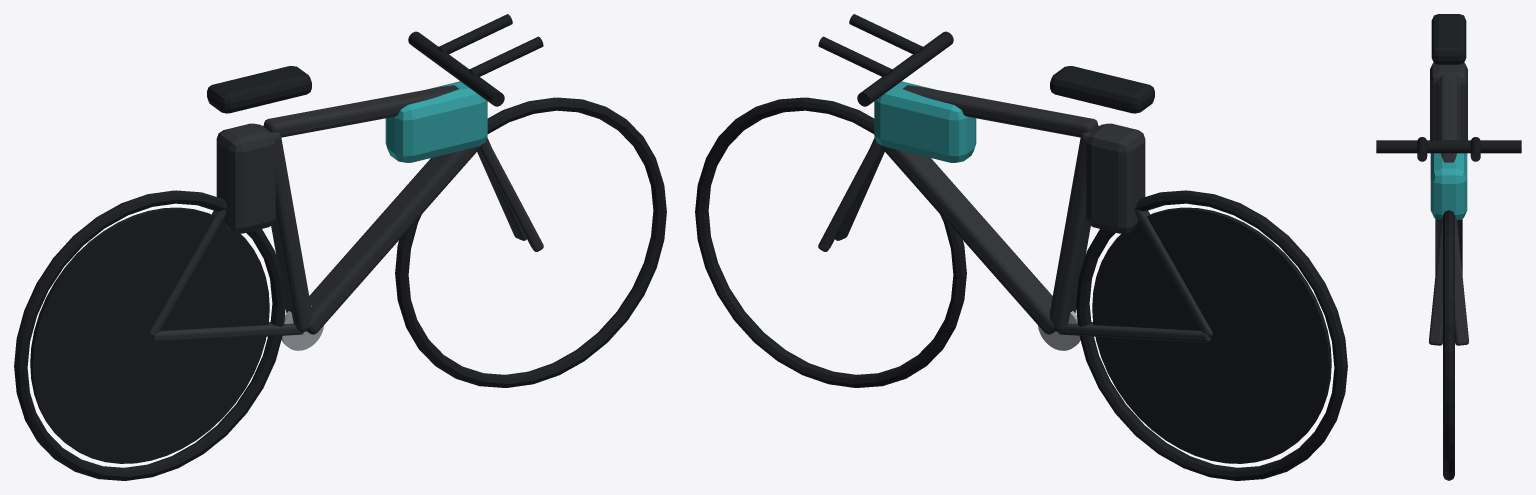
Rendered from bmc-speedmachine-01-size-m.glb.
3 views of the same model, side by side, from view 1: azimuth 30°, elevation 25°; view 2: azimuth 150°, elevation 25°; view 3: azimuth 270°, elevation 25° (orthographic). The views are drawn at different scales.
Visible parts, largest first — view 1: bmc-speedmachine-01-size-m_REAR_DISC, bmc-speedmachine-01-size-m, bmc-speedmachine-01-size-m_REAR_WHEEL, bmc-speedmachine-01-size-m_FRONT_WHEEL, bmc-speedmachine-01-size-m_DOWN_TUBE, bmc-speedmachine-01-size-m_SEAT_TUBE, bmc-speedmachine-01-size-m_TOP_TUBE, bmc-speedmachine-01-size-m_SADDLE, bmc-speedmachine-01-size-m_CHAIN_STAY, bmc-speedmachine-01-size-m_AERO_BASE, bmc-speedmachine-01-size-m_FORK_L, bmc-speedmachine-01-size-m_SEAT_STAY (+3 smaller); view 2: bmc-speedmachine-01-size-m_REAR_DISC, bmc-speedmachine-01-size-m, bmc-speedmachine-01-size-m_REAR_WHEEL, bmc-speedmachine-01-size-m_FRONT_WHEEL, bmc-speedmachine-01-size-m_DOWN_TUBE, bmc-speedmachine-01-size-m_SEAT_TUBE, bmc-speedmachine-01-size-m_TOP_TUBE, bmc-speedmachine-01-size-m_SADDLE, bmc-speedmachine-01-size-m_CHAIN_STAY, bmc-speedmachine-01-size-m_AERO_BASE, bmc-speedmachine-01-size-m_FORK_R, bmc-speedmachine-01-size-m_SEAT_STAY (+3 smaller); view 3: bmc-speedmachine-01-size-m, bmc-speedmachine-01-size-m_FRONT_WHEEL, bmc-speedmachine-01-size-m_AERO_BASE, bmc-speedmachine-01-size-m_SADDLE, bmc-speedmachine-01-size-m_TOP_TUBE, bmc-speedmachine-01-size-m_FORK_L, bmc-speedmachine-01-size-m_FORK_R, bmc-speedmachine-01-size-m_SEAT_TUBE, bmc-speedmachine-01-size-m_DOWN_TUBE, bmc-speedmachine-01-size-m_EXT_L, bmc-speedmachine-01-size-m_EXT_R.
Part boxes in pixels (box(x1,y1,x2,y2)): bmc-speedmachine-01-size-m_REAR_DISC: box(30, 207, 269, 463); bmc-speedmachine-01-size-m: box(216, 81, 487, 233); bmc-speedmachine-01-size-m_REAR_WHEEL: box(14, 190, 285, 480); bmc-speedmachine-01-size-m_FRONT_WHEEL: box(395, 97, 666, 387); bmc-speedmachine-01-size-m_DOWN_TUBE: box(306, 143, 483, 334); bmc-speedmachine-01-size-m_SEAT_TUBE: box(262, 125, 312, 332); bmc-speedmachine-01-size-m_TOP_TUBE: box(263, 85, 458, 137); bmc-speedmachine-01-size-m_SADDLE: box(207, 66, 311, 113); bmc-speedmachine-01-size-m_CHAIN_STAY: box(151, 322, 303, 342); bmc-speedmachine-01-size-m_AERO_BASE: box(408, 31, 504, 106); bmc-speedmachine-01-size-m_FORK_L: box(479, 138, 543, 251); bmc-speedmachine-01-size-m_SEAT_STAY: box(149, 198, 226, 336); bmc-speedmachine-01-size-m_REAR_DISC: box(1092, 207, 1331, 463); bmc-speedmachine-01-size-m: box(874, 81, 1145, 233); bmc-speedmachine-01-size-m_REAR_WHEEL: box(1076, 190, 1347, 480); bmc-speedmachine-01-size-m_FRONT_WHEEL: box(695, 97, 966, 387); bmc-speedmachine-01-size-m_DOWN_TUBE: box(878, 143, 1055, 334); bmc-speedmachine-01-size-m_SEAT_TUBE: box(1049, 125, 1099, 332); bmc-speedmachine-01-size-m_TOP_TUBE: box(903, 85, 1098, 137); bmc-speedmachine-01-size-m_SADDLE: box(1050, 66, 1154, 113); bmc-speedmachine-01-size-m_CHAIN_STAY: box(1058, 322, 1210, 342); bmc-speedmachine-01-size-m_AERO_BASE: box(857, 31, 953, 106); bmc-speedmachine-01-size-m_FORK_R: box(818, 138, 882, 251); bmc-speedmachine-01-size-m_SEAT_STAY: box(1135, 198, 1212, 336); bmc-speedmachine-01-size-m: box(1430, 62, 1467, 220); bmc-speedmachine-01-size-m_FRONT_WHEEL: box(1443, 210, 1454, 480); bmc-speedmachine-01-size-m_AERO_BASE: box(1376, 140, 1521, 153); bmc-speedmachine-01-size-m_SADDLE: box(1431, 14, 1466, 64); bmc-speedmachine-01-size-m_TOP_TUBE: box(1439, 74, 1458, 162); bmc-speedmachine-01-size-m_FORK_L: box(1429, 217, 1442, 345); bmc-speedmachine-01-size-m_FORK_R: box(1455, 217, 1468, 345); bmc-speedmachine-01-size-m_SEAT_TUBE: box(1436, 79, 1461, 140); bmc-speedmachine-01-size-m_DOWN_TUBE: box(1435, 219, 1462, 274); bmc-speedmachine-01-size-m_EXT_L: box(1417, 137, 1427, 161); bmc-speedmachine-01-size-m_EXT_R: box(1470, 137, 1480, 161).
Size of the model in its own units: 1.71 by 0.93 by 0.38.
